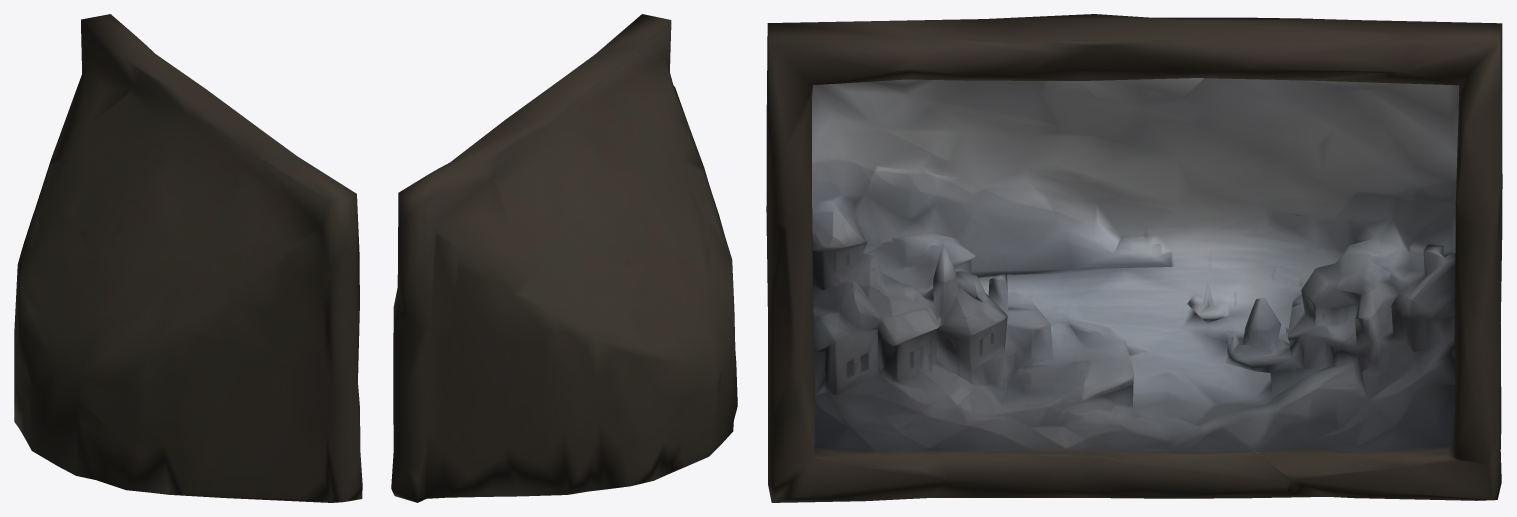
The model's file is low-poly+landscape+frame+3d+model.glb.
3 views of the same model, side by side, from view 1: azimuth 30°, elevation 25°; view 2: azimuth 150°, elevation 25°; view 3: azimuth 270°, elevation 25° (orthographic). The views are drawn at different scales.
Visible parts, largest first — view 1: tripo_node_4b412008-984f-4f2d-9e56-55781b83f441; view 2: tripo_node_4b412008-984f-4f2d-9e56-55781b83f441; view 3: tripo_node_4b412008-984f-4f2d-9e56-55781b83f441.
Part boxes in pixels (bbox=[...]): tripo_node_4b412008-984f-4f2d-9e56-55781b83f441: bbox=[14, 14, 362, 502]; tripo_node_4b412008-984f-4f2d-9e56-55781b83f441: bbox=[391, 14, 737, 502]; tripo_node_4b412008-984f-4f2d-9e56-55781b83f441: bbox=[766, 14, 1502, 502].
Bounding box in the file's own units: 0.4913 × 0.6854 × 1.
1 material, 1 textured.
